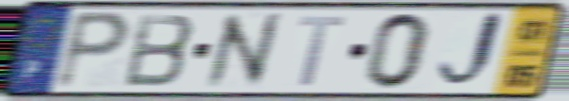0: (360, 11, 439, 92)
B: (120, 11, 199, 89)
J: (433, 9, 508, 95)
N: (202, 10, 284, 92)
P: (51, 8, 136, 92)
T: (295, 13, 350, 89)
